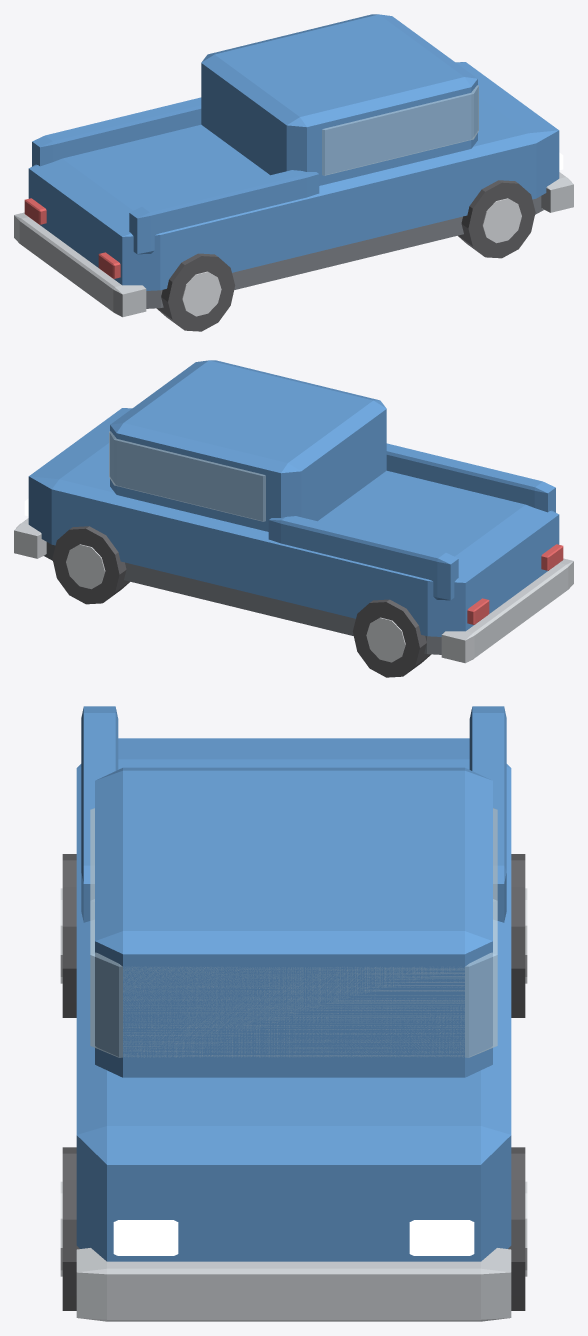
Rendered from b03_vintage_farm_pickup.glb.
The picture shows the model from 3 angles, top to bottom: view 1: azimuth 30°, elevation 25°; view 2: azimuth 150°, elevation 25°; view 3: azimuth 270°, elevation 25°; orthographic projection. The views are drawn at different scales.
Parts seen in each view (by area): view 1: b03_vintage_farm_pickup; view 2: b03_vintage_farm_pickup; view 3: b03_vintage_farm_pickup.
Part boxes in pixels (x1,y1,x2,y2): b03_vintage_farm_pickup: (14, 14, 573, 331); b03_vintage_farm_pickup: (14, 360, 573, 677); b03_vintage_farm_pickup: (60, 706, 527, 1321).
Size of the model in its own units: 5.1 by 1.88 by 2.27.
